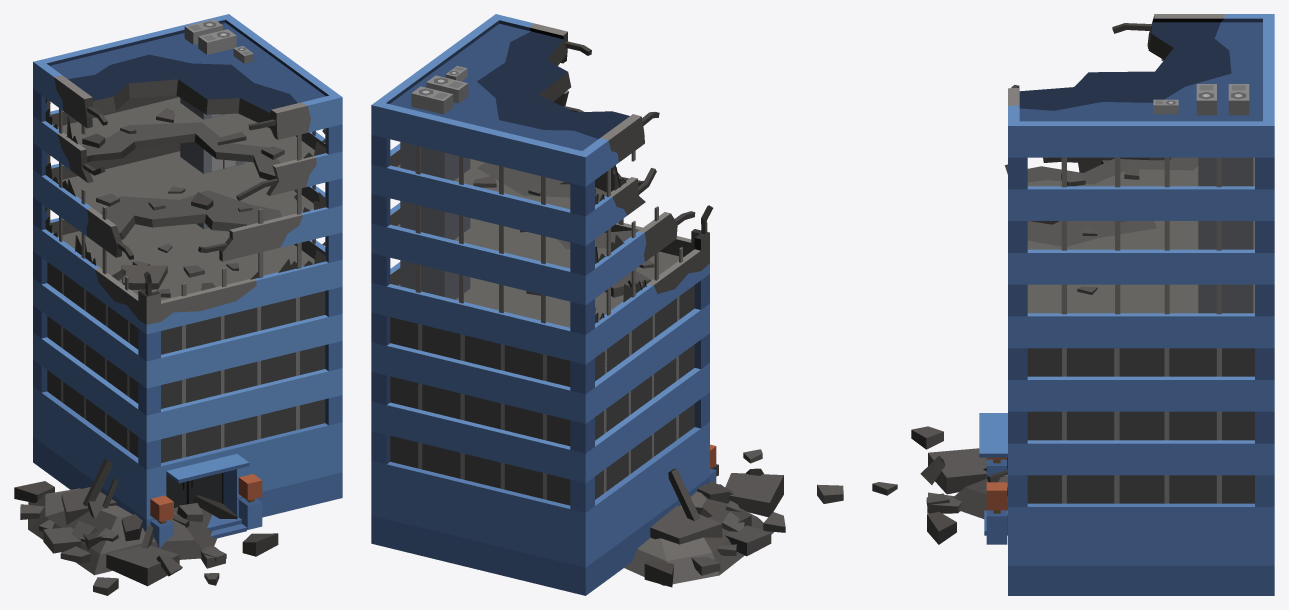
Rendered from SA_Bld_Office_Damaged_02.gltf.
3 renders of one model, left to right at view 1: azimuth 30°, elevation 25°; view 2: azimuth 150°, elevation 25°; view 3: azimuth 270°, elevation 25°, orthographic. The views are drawn at different scales.
Parts seen in each view (by area): view 1: SA_Bld_Office_Damaged_02; view 2: SA_Bld_Office_Damaged_02; view 3: SA_Bld_Office_Damaged_02.
Part boxes in pixels (x1=…): SA_Bld_Office_Damaged_02: x1=14, y1=14, x2=342, y2=595; SA_Bld_Office_Damaged_02: x1=371, y1=14, x2=843, y2=595; SA_Bld_Office_Damaged_02: x1=872, y1=14, x2=1274, y2=595.
Size of the model in its own units: 19.73 by 28.16 by 20.67.
1 material, 1 textured.
